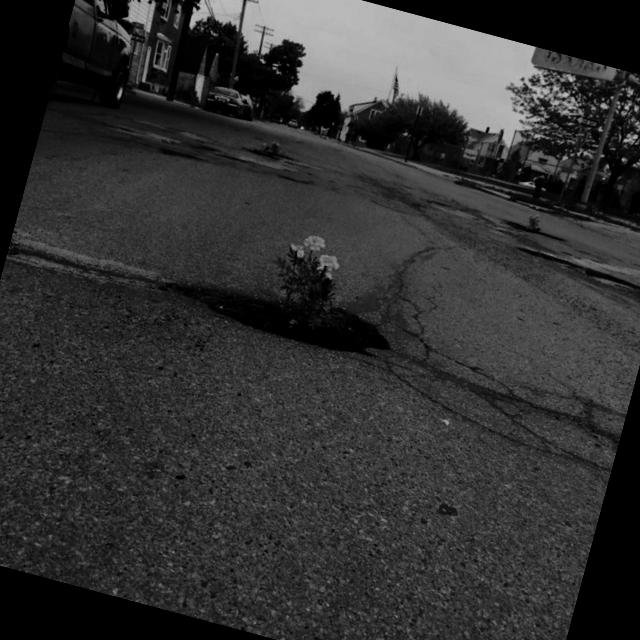Pothole: (153, 193, 432, 381), (509, 240, 640, 301), (155, 124, 250, 180), (497, 202, 575, 250), (236, 122, 296, 172)
